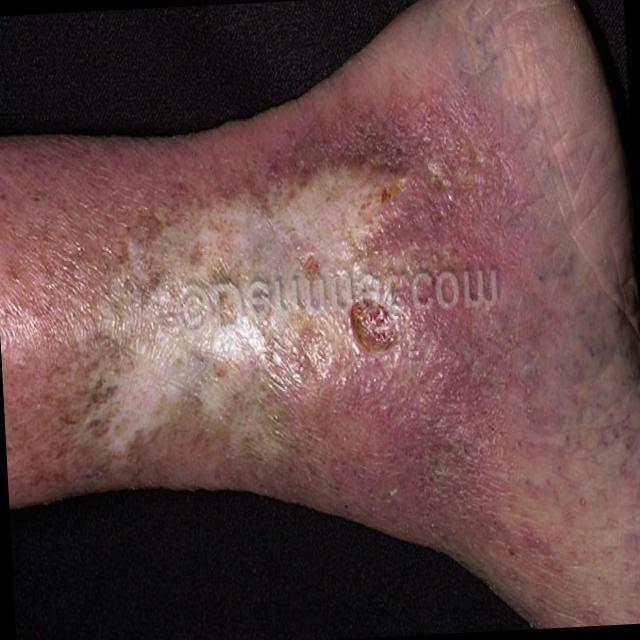Eczema: (48, 152, 489, 526)
